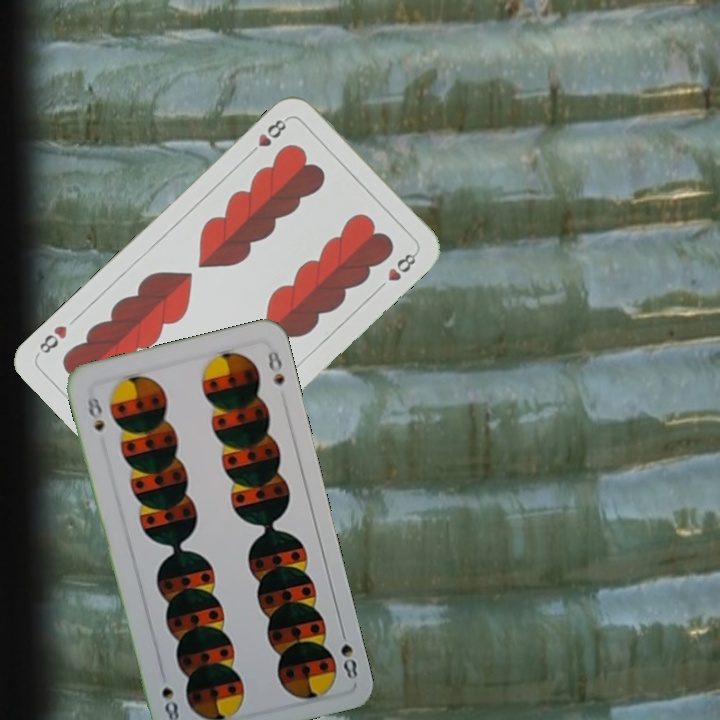H8: (244, 114, 291, 159)
S8: (336, 623, 360, 682), (83, 388, 107, 434)
